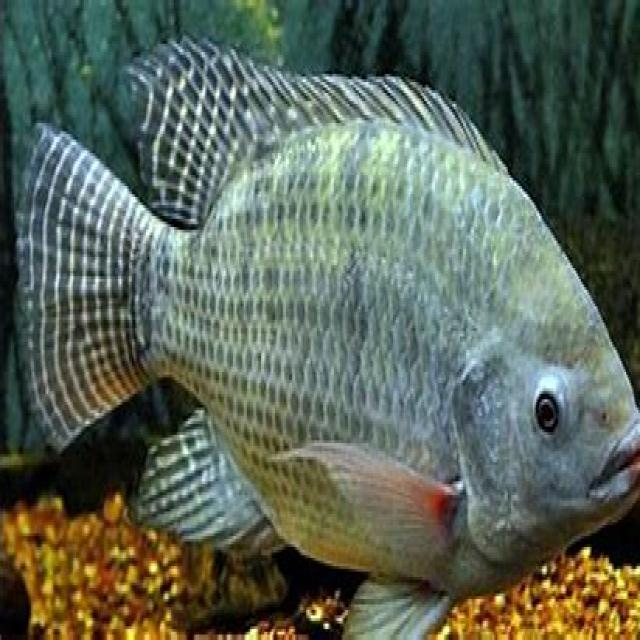Tilapia: (14, 34, 638, 637)
